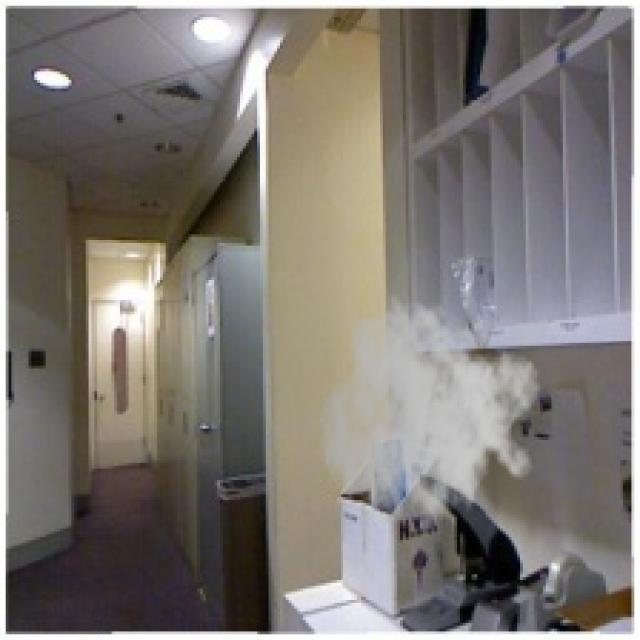smoke: (317, 292, 543, 552)
